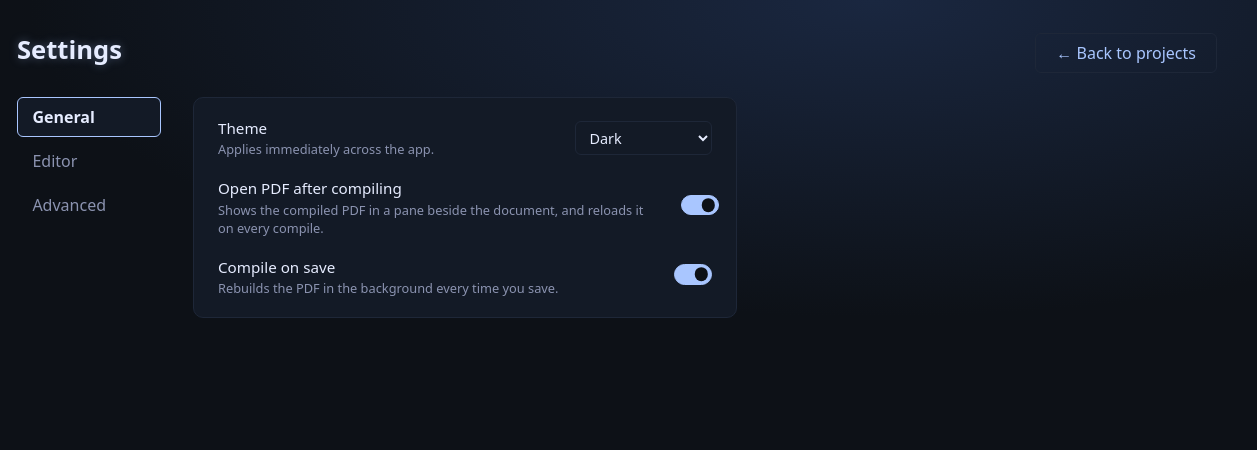
Test: Settings › editor preferences › gates line numbering on modal editing being on
The width and height of the screenshot is (1257, 450).
Click the tab "Editor".
click(89, 161)  # box [17,141,161,181]
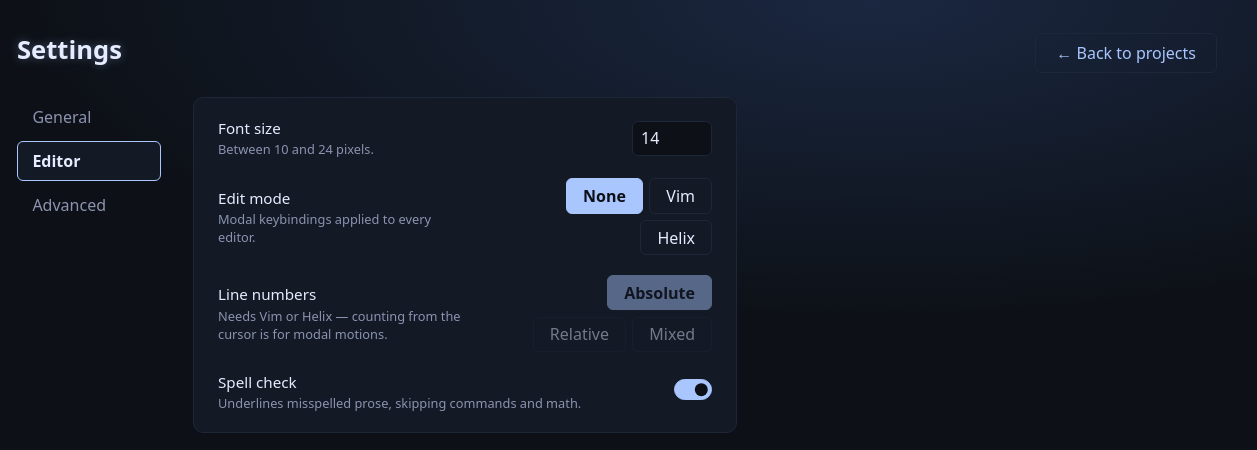
Now the radio button labelled "Relative" is disabled, box [533,317,626,352]
Now the text "Needs Vim or Helix" is shown, box [218,307,461,343]
Click the radio button labelled "Vim".
click(681, 196)  # box [649,178,712,214]
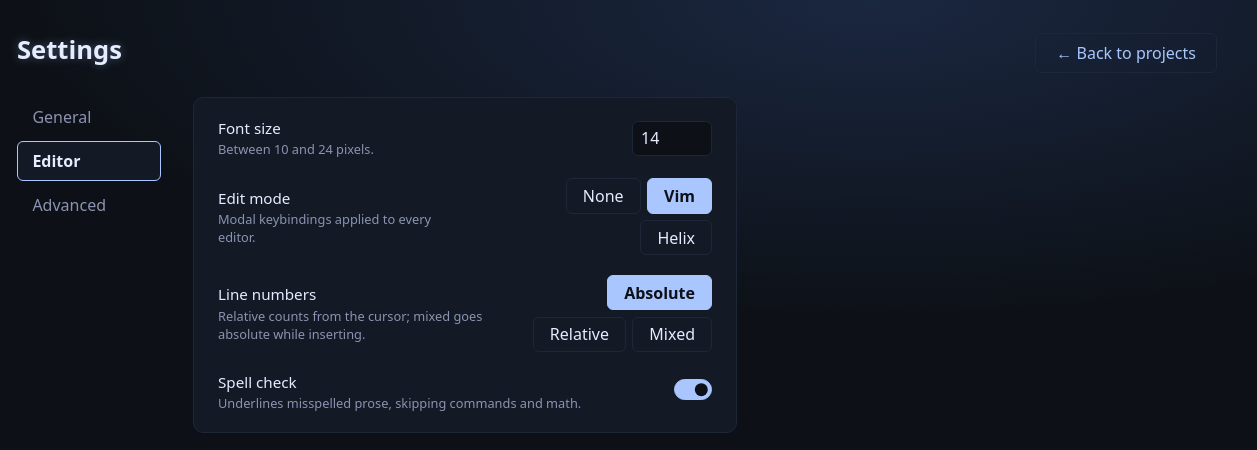
Now the radio button labelled "Relative" is enabled, box [533,317,626,352]
